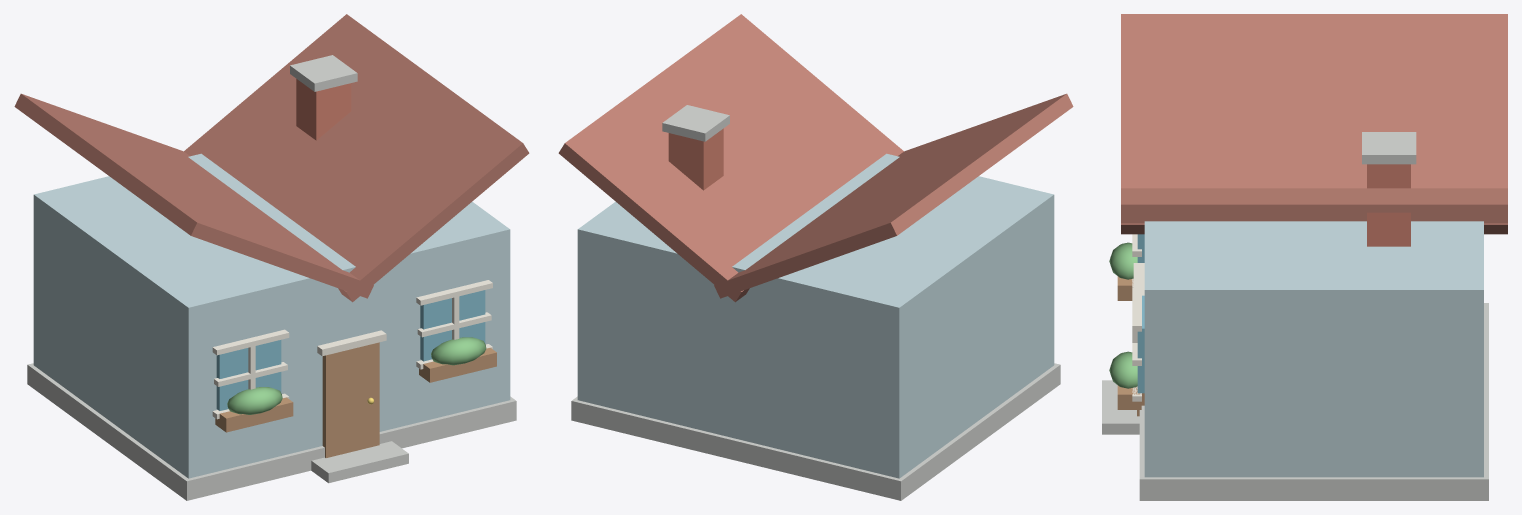
File: house_2.glb
The picture shows the model from 3 angles, left to right: view 1: azimuth 30°, elevation 25°; view 2: azimuth 150°, elevation 25°; view 3: azimuth 270°, elevation 25°; orthographic projection. The views are drawn at different scales.
Visible parts, largest first — view 1: house, gable_roof (×2), foundation, door, window (×2), flower_box (×2), chimney, flowers (×2), door_step, chimney_cap, window_trim (×2), window_frame (×2) (+1 smaller); view 2: house, gable_roof (×2), foundation, chimney, chimney_cap; view 3: house, gable_roof (×2), foundation, chimney, chimney_cap, flowers (×2), door_step, window, flower_box, window_trim.
Part boxes in pixels (x1,y1,x2,y2): house: [33, 153, 510, 478]; gable_roof (×2): [14, 14, 529, 302]; foundation: [27, 363, 516, 500]; door: [322, 342, 379, 457]; window (×2): [216, 290, 485, 410]; flower_box (×2): [215, 347, 496, 432]; chimney: [296, 79, 351, 140]; flowers (×2): [227, 337, 486, 414]; door_step: [311, 441, 408, 483]; chimney_cap: [290, 55, 357, 91]; window_trim (×2): [212, 280, 492, 355]; window_frame (×2): [214, 312, 491, 386]; house: [577, 153, 1054, 478]; gable_roof (×2): [558, 14, 1073, 302]; foundation: [571, 363, 1060, 500]; chimney: [668, 128, 723, 190]; chimney_cap: [662, 105, 729, 141]; house: [1144, 221, 1483, 477]; gable_roof (×2): [1121, 14, 1507, 234]; foundation: [1139, 303, 1488, 500]; chimney: [1367, 164, 1410, 246]; chimney_cap: [1362, 132, 1416, 164]; flowers (×2): [1109, 242, 1137, 388]; door_step: [1102, 380, 1139, 434]; window: [1137, 295, 1144, 393]; flower_box: [1117, 385, 1141, 409]; window_trim: [1132, 287, 1141, 331].
Size of the model in its own units: 6.32 by 5.13 by 5.97.
